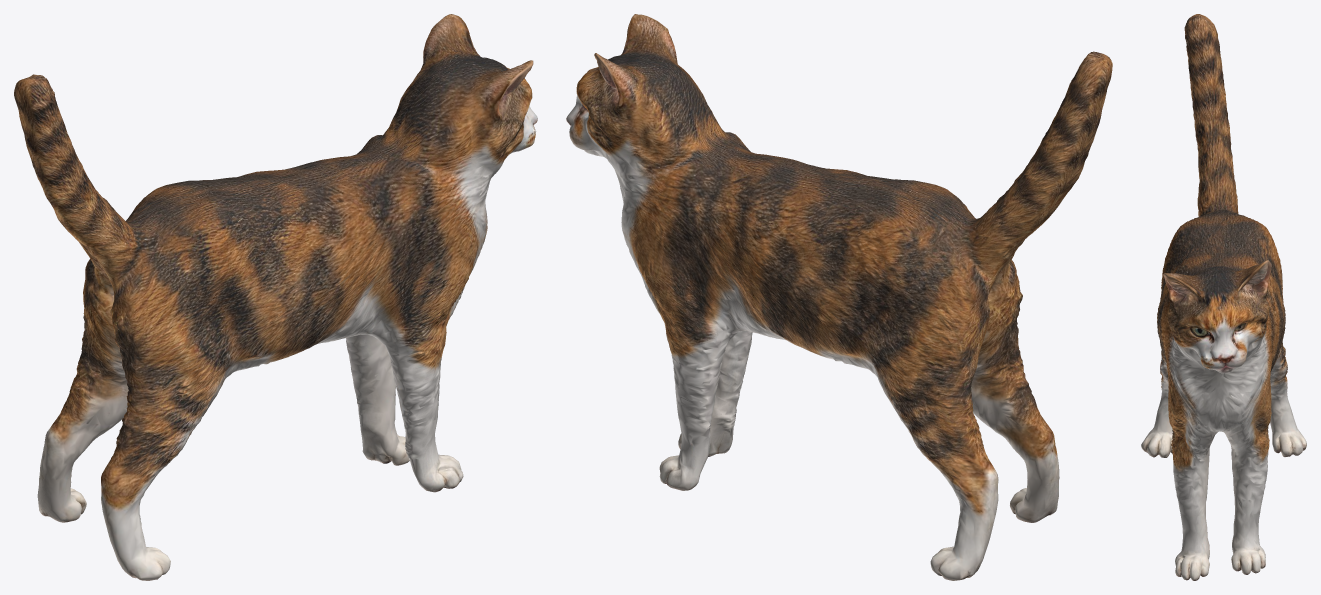
Rendered from MIIKOCAT.glb.
The picture shows the model from 3 angles, left to right: view 1: azimuth 30°, elevation 25°; view 2: azimuth 150°, elevation 25°; view 3: azimuth 270°, elevation 25°; orthographic projection. The views are drawn at different scales.
Visible parts, largest first — view 1: tripo_node_188a1a5c-4347-4854-b1ad-46175a216343; view 2: tripo_node_188a1a5c-4347-4854-b1ad-46175a216343; view 3: tripo_node_188a1a5c-4347-4854-b1ad-46175a216343.
Boxes of the visible parts, x1,y1,x2,y2 form: tripo_node_188a1a5c-4347-4854-b1ad-46175a216343: (14,14,537,580); tripo_node_188a1a5c-4347-4854-b1ad-46175a216343: (566,14,1112,580); tripo_node_188a1a5c-4347-4854-b1ad-46175a216343: (1141,14,1306,580).
Bounding box in the file's own units: 1.1 × 1 × 0.3738.
1 material, 1 textured.
